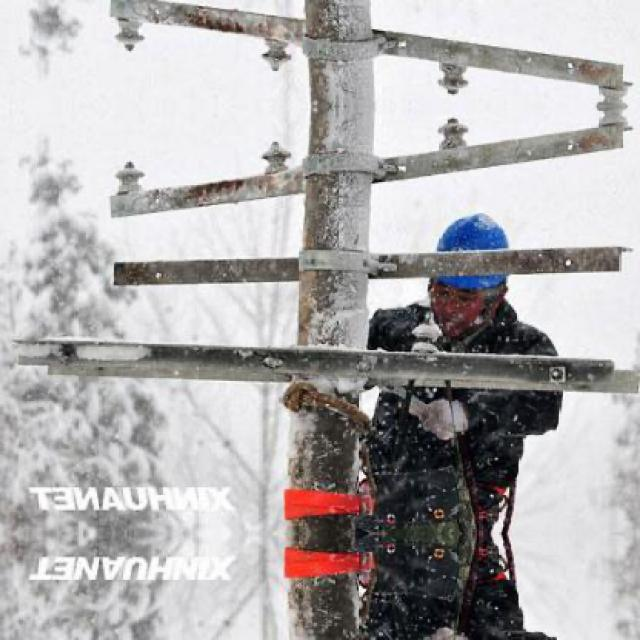helmet: (417, 211, 521, 336)
